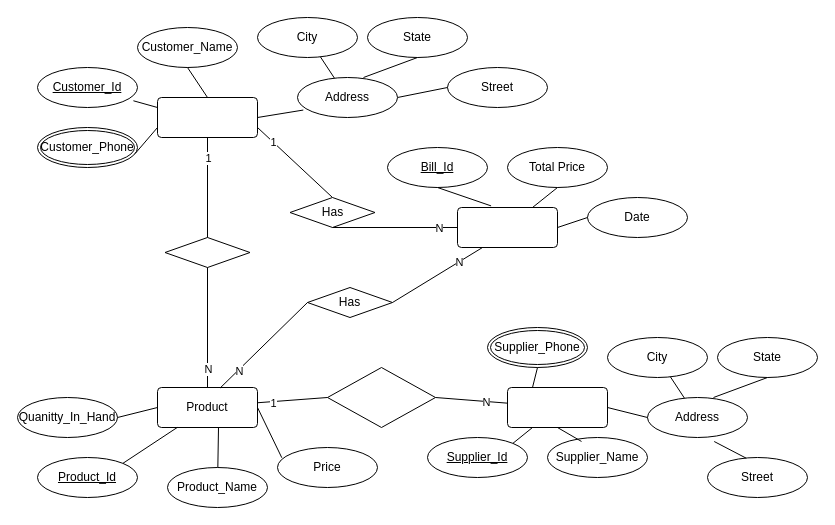
Image size: 835x525. Some labels were removed from this diagram. The centre of each missing label's shape, as x and y in pixels:
"Bill" belongs at (507,227).
"Buy" belongs at (207,252).
"Customer" belongs at (207,117).
"Supplied By" belongs at (381,397).
"Supplier" belongs at (557,407).
